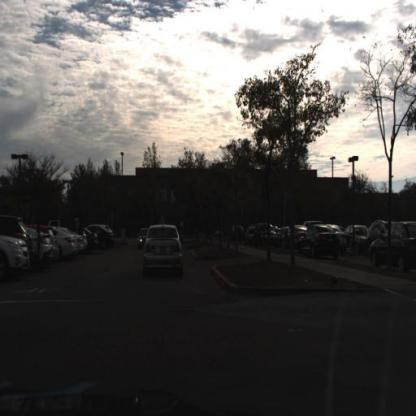car: (139, 216, 188, 282), (368, 219, 416, 269), (0, 214, 36, 278), (12, 223, 56, 264), (299, 223, 341, 262), (53, 226, 74, 262), (249, 222, 280, 246), (280, 224, 303, 252), (98, 223, 116, 251), (344, 224, 368, 242), (86, 226, 99, 252), (136, 226, 148, 253), (73, 229, 84, 257), (78, 229, 86, 254)
